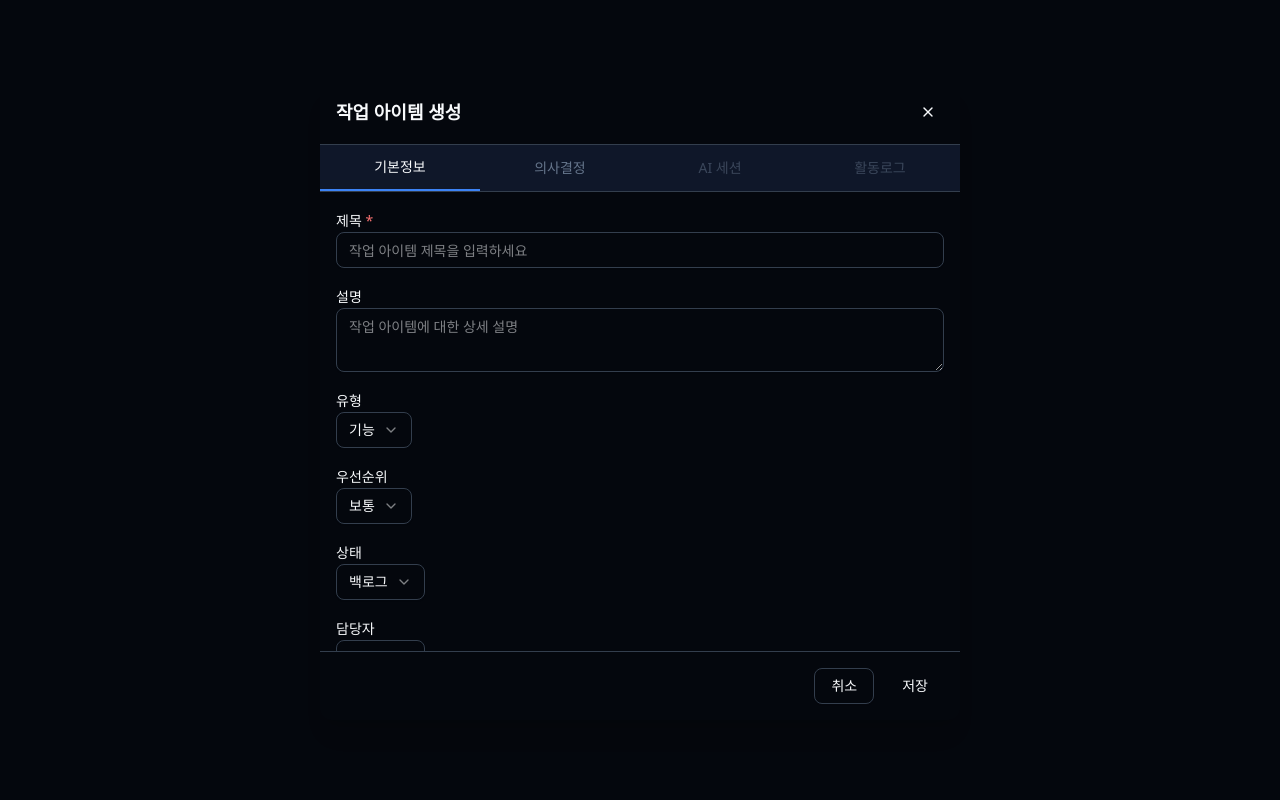
WorkItemModal › should show validation error when title is empty on submit
This screenshot has width=1280, height=800.
Step 1. Click the button "저장" → [915, 686], box 886,668 -> 944,704
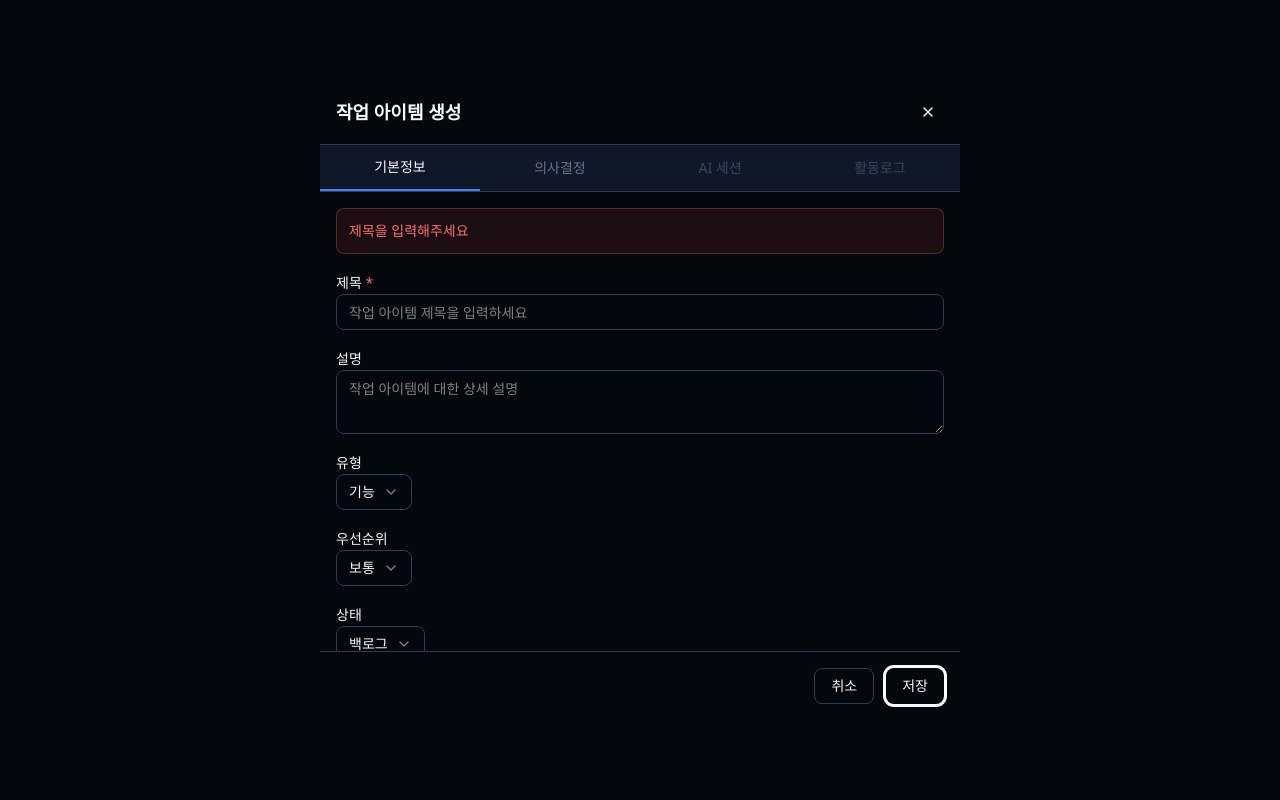
Result: the text "제목을 입력해주세요" is shown at 349,221 -> 469,240
